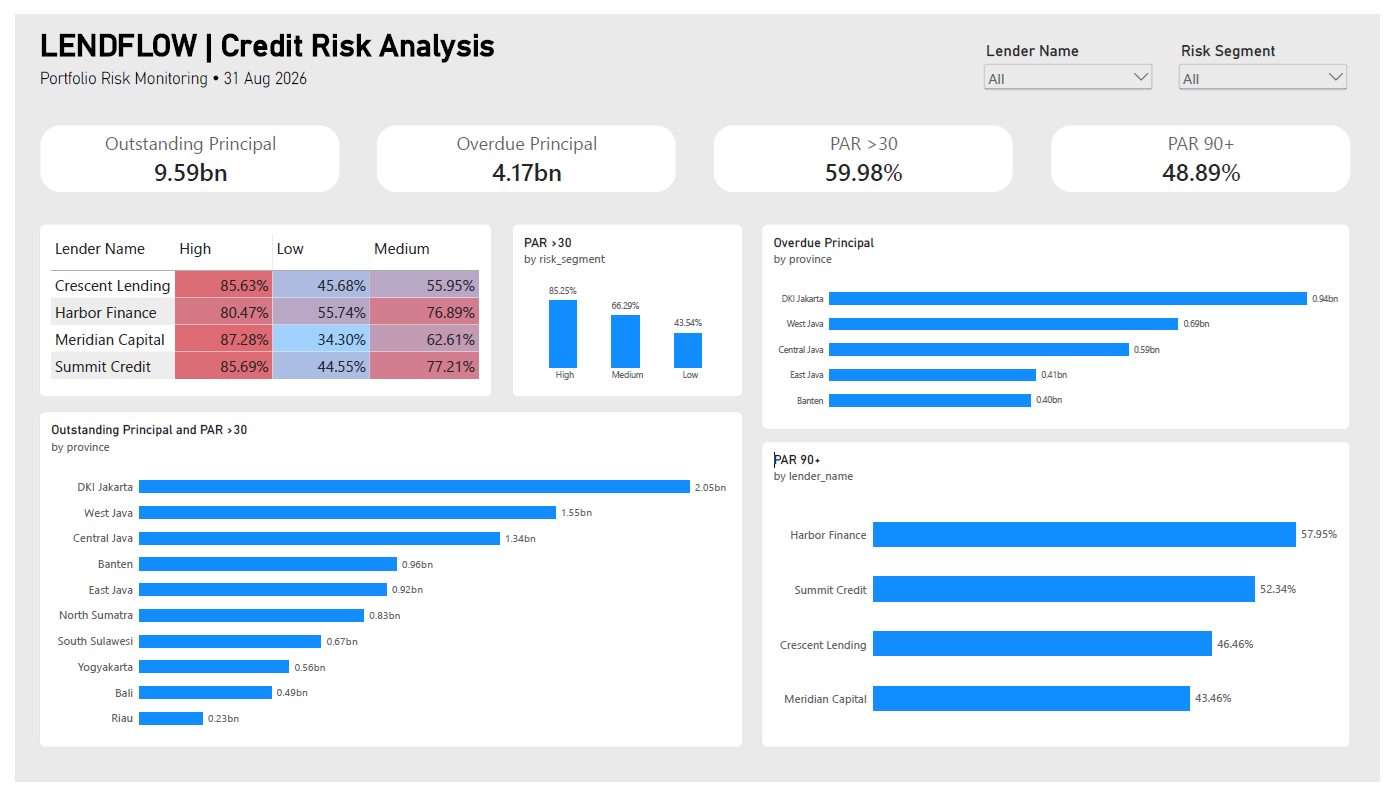

This screenshot's page, from the dashboard's own definition file:
{"tool":"powerbi","page":{"name":"Credit Risk Analysis","canvas":[1920,1080],"ordinal":1},"visuals":[{"type":"cardVisual","title":"Disbursement","fields":{"Data":["Loan Snapshot.Outstanding Principal"]},"box":[35,156.4,422,94.7],"z":0},{"type":"clusteredBarChart","fields":{"Category":["Loan Snapshot.lender_name"],"Y":["Loan Snapshot.PAR 90+"]},"box":[1049.6,600.8,828.8,430.7],"z":3000},{"type":"slicer","fields":{"Values":["Loan Snapshot.lender_name"]},"box":[1358.5,39.1,247,72],"z":4000},{"type":"textbox","box":[35,18.5,664.8,72],"z":5000},{"type":"cardVisual","title":"Total ","fields":{"Data":["Loan Snapshot.Overdue Principal"]},"box":[508.4,156.4,422,94.7],"z":6000},{"type":"cardVisual","title":"Total ","fields":{"Data":["Loan Snapshot.PAR >30"]},"box":[981.8,156.4,422,94.7],"z":7000},{"type":"cardVisual","title":"Total ","fields":{"Data":["Loan Snapshot.PAR 90+"]},"box":[1457.3,156.4,422,94.7],"z":8000},{"type":"clusteredColumnChart","fields":{"Category":["Loan Snapshot.risk_segment"],"Y":["Loan Snapshot.PAR >30"]},"box":[698.5,295,325.7,244.3],"z":9000},{"type":"textbox","box":[35,76.2,664.8,43.2],"z":10000},{"type":"slicer","fields":{"Values":["Loan Snapshot.risk_segment"]},"box":[1632.3,39.1,247,72],"z":11000},{"type":"clusteredBarChart","fields":{"Category":["Loan Snapshot.province"],"Y":["Loan Snapshot.Outstanding Principal"]},"box":[34.4,559.2,989.9,472.3],"z":13000},{"type":"pivotTable","fields":{"Columns":["Loan Snapshot.risk_segment"],"Rows":["Loan Snapshot.lender_name"],"Values":["Loan Snapshot.PAR >30"]},"box":[34.4,295,637,244.3],"z":13001},{"type":"clusteredBarChart","fields":{"Category":["Loan Snapshot.province"],"Y":["Loan Snapshot.Overdue Principal"]},"box":[1049.6,295,828.8,289.5],"z":13002}]}

Visuals, with their boxes in screenshot pixels (x1, y1, x2, y2), scaled from the page's 1920x1080 canvas onto the 1395x795 screenshot:
"Disbursement" cardVisual: [x1=25, y1=115, x2=332, y2=185]
clusteredBarChart - Loan Snapshot.lender_name x Loan Snapshot.PAR 90+: [x1=763, y1=442, x2=1365, y2=759]
slicer - Loan Snapshot.lender_name: [x1=987, y1=29, x2=1166, y2=82]
textbox: [x1=25, y1=14, x2=508, y2=67]
"Total " cardVisual: [x1=369, y1=115, x2=676, y2=185]
"Total " cardVisual: [x1=713, y1=115, x2=1020, y2=185]
"Total " cardVisual: [x1=1059, y1=115, x2=1365, y2=185]
clusteredColumnChart - Loan Snapshot.risk_segment x Loan Snapshot.PAR >30: [x1=508, y1=217, x2=744, y2=397]
textbox: [x1=25, y1=56, x2=508, y2=88]
slicer - Loan Snapshot.risk_segment: [x1=1186, y1=29, x2=1365, y2=82]
clusteredBarChart - Loan Snapshot.province x Loan Snapshot.Outstanding Principal: [x1=25, y1=412, x2=744, y2=759]
pivotTable - Loan Snapshot.risk_segment x Loan Snapshot.lender_name: [x1=25, y1=217, x2=488, y2=397]
clusteredBarChart - Loan Snapshot.province x Loan Snapshot.Overdue Principal: [x1=763, y1=217, x2=1365, y2=430]
